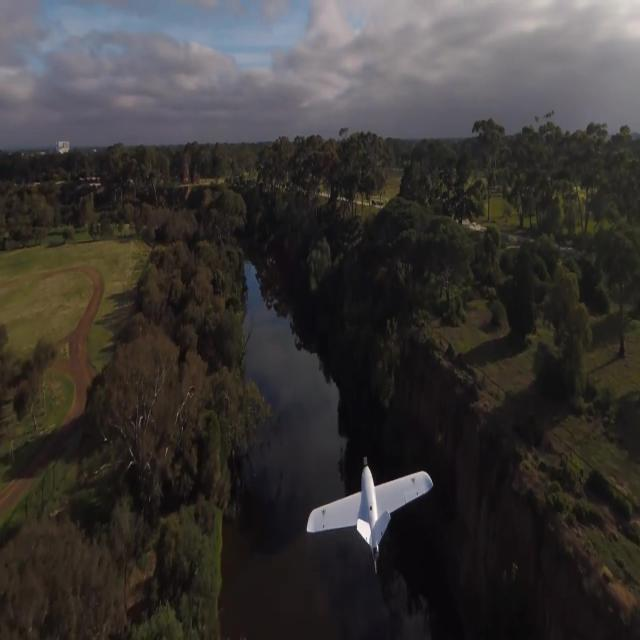iha: (305, 488, 434, 541)
